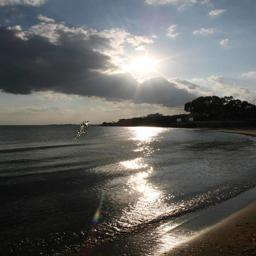Cuckoo: (74, 121, 89, 139)
